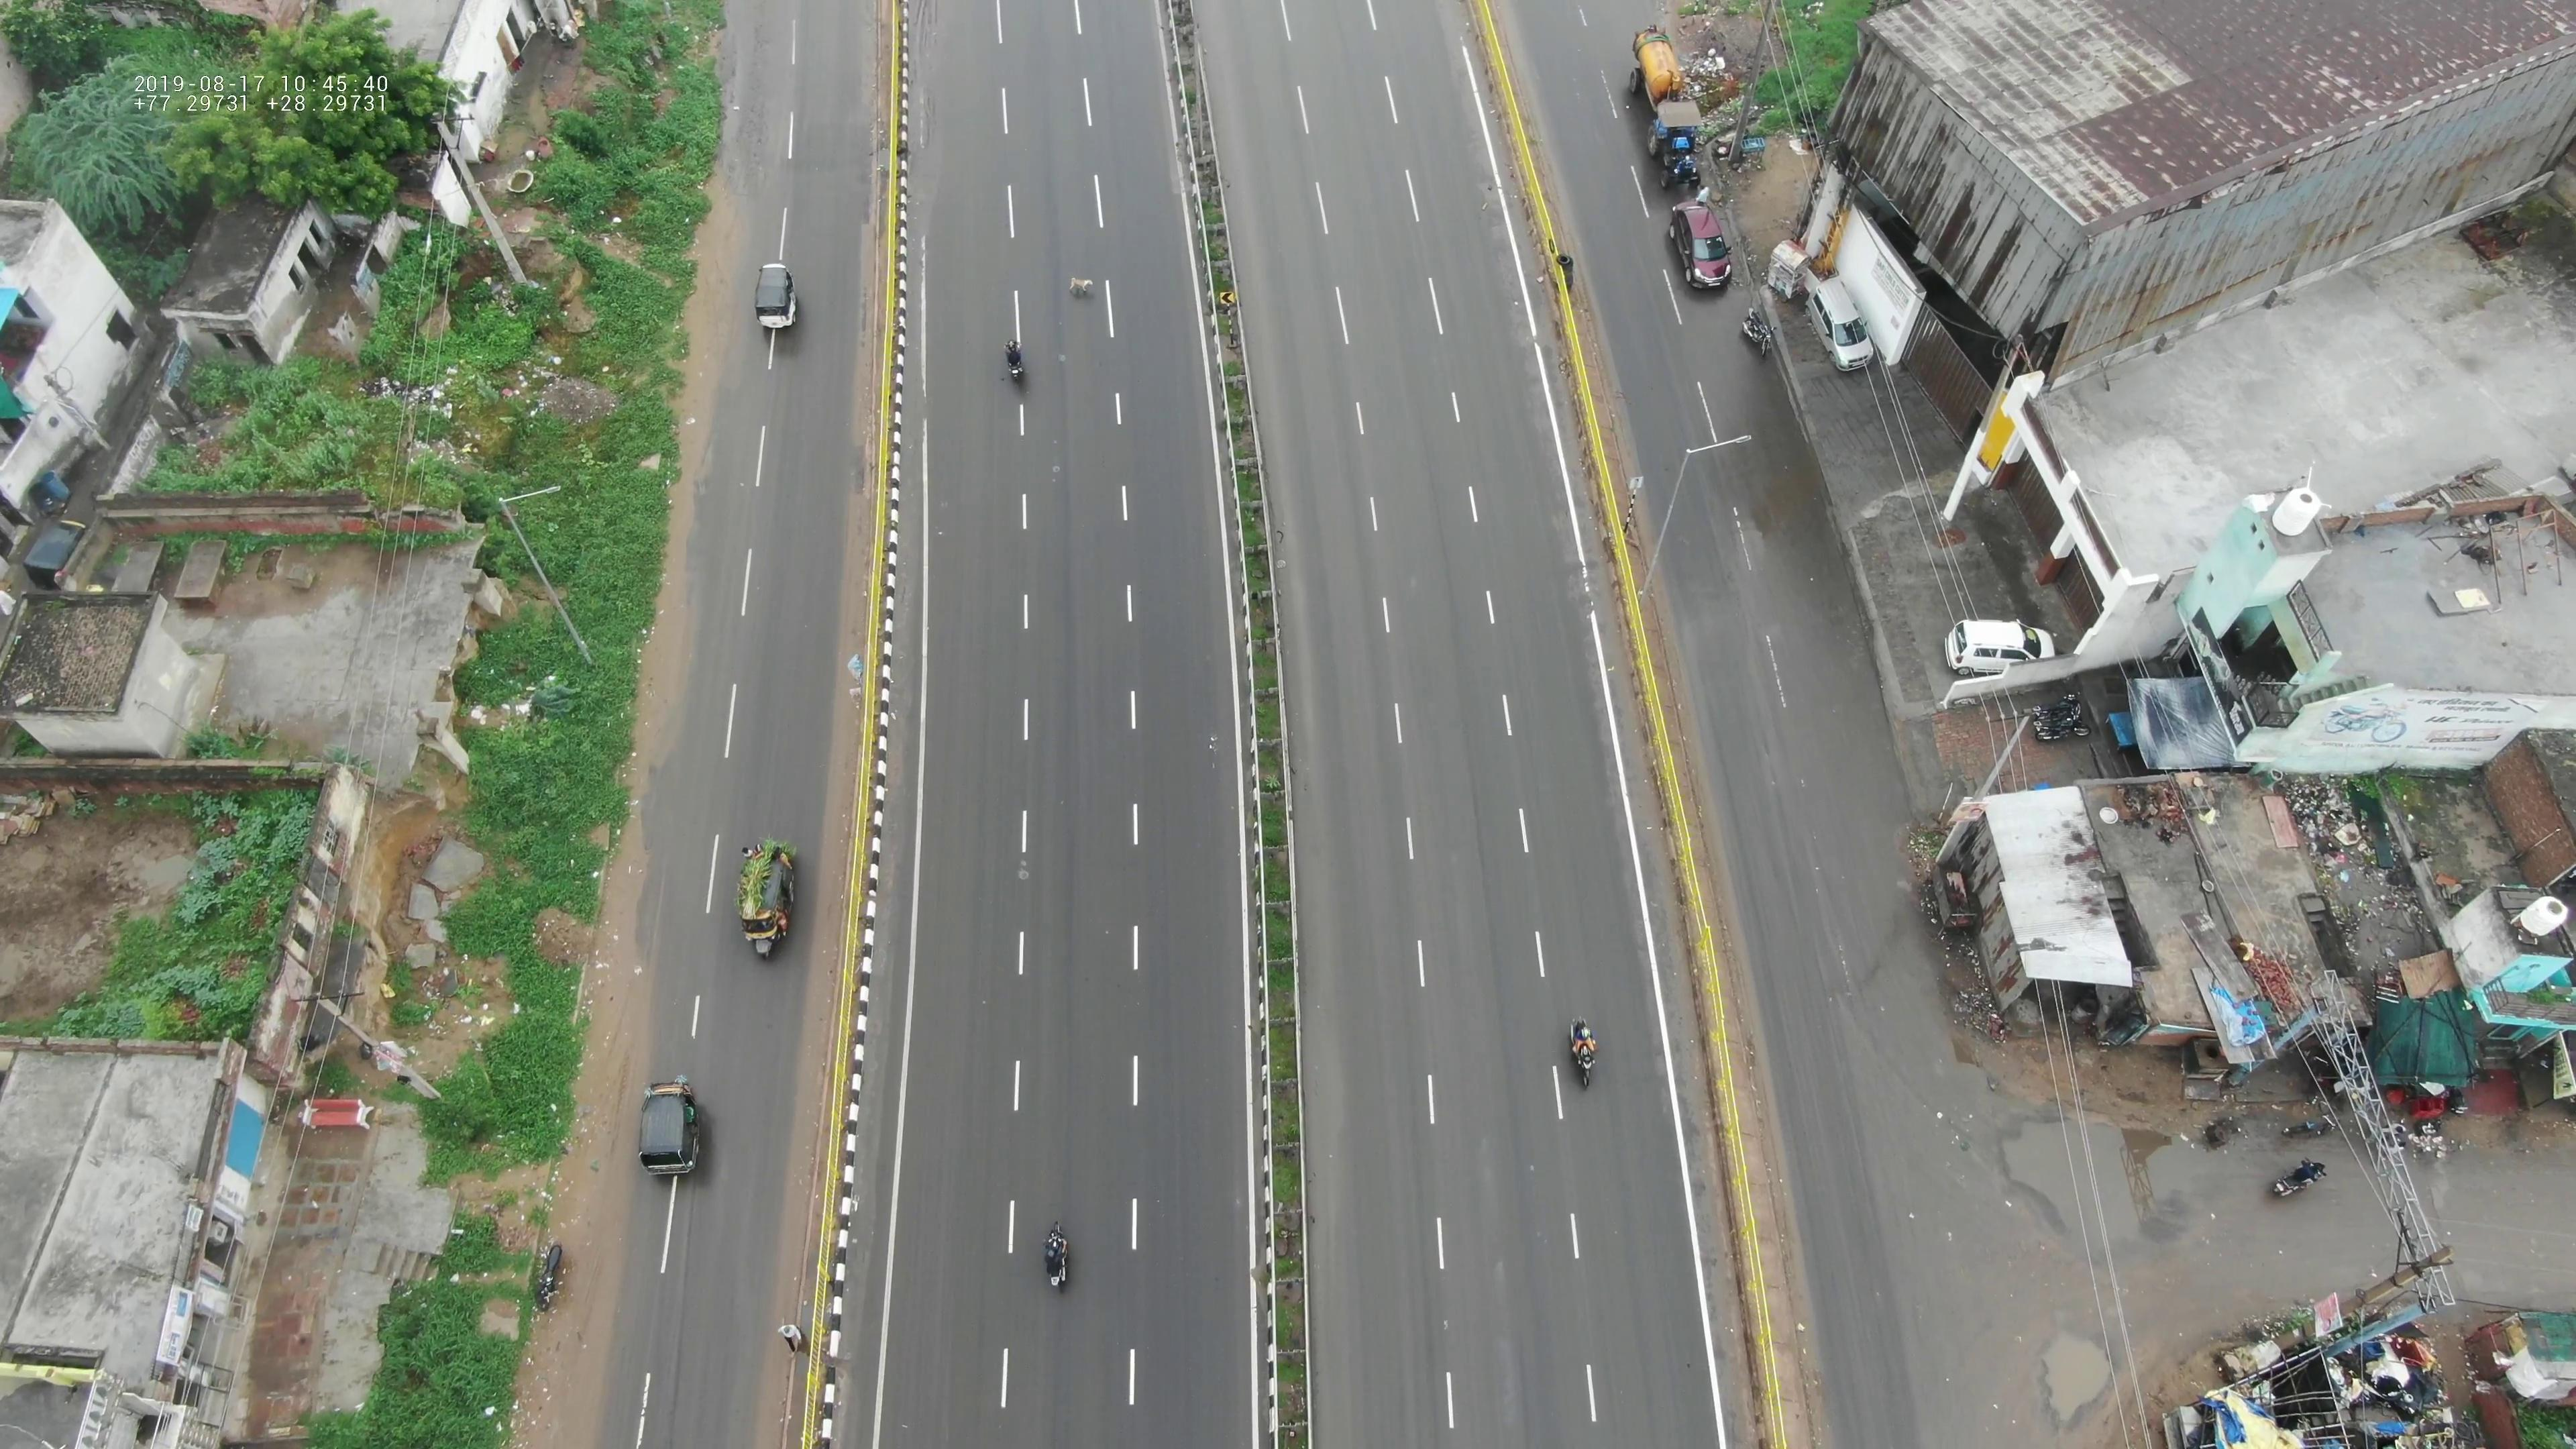Mud_heaps: (518, 361, 628, 446), (510, 893, 605, 980)
